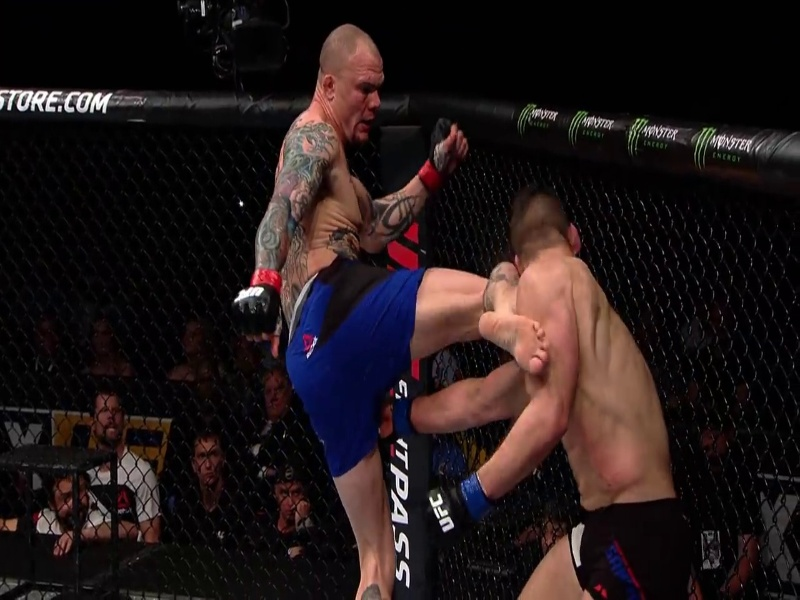fighter: (232, 16, 553, 600), (370, 179, 709, 600)
